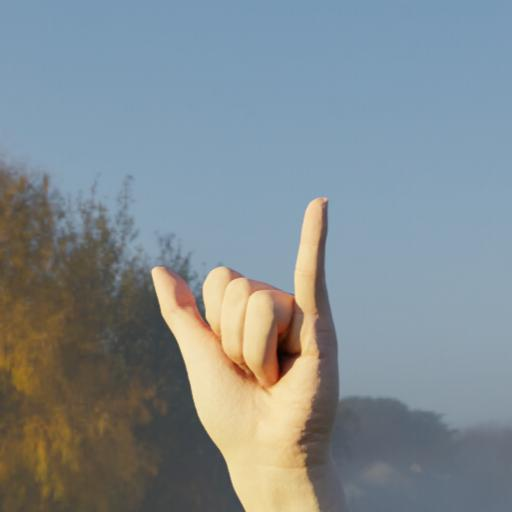Y: (129, 139, 418, 512)
